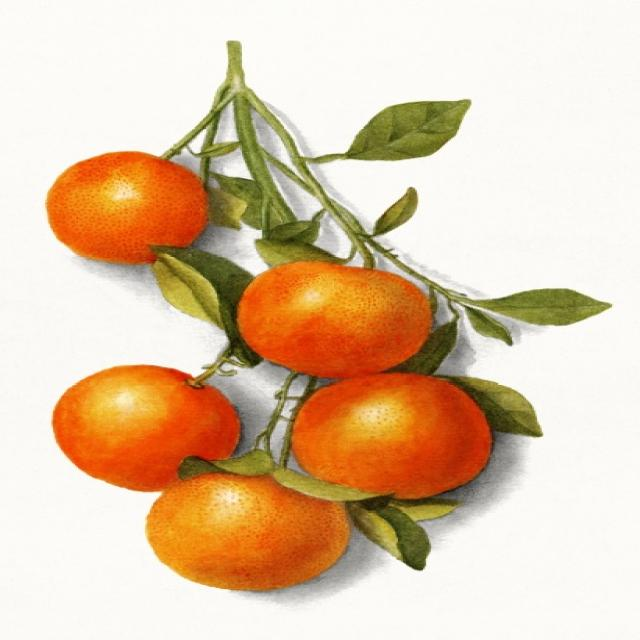orange: (126, 466, 356, 594), (288, 376, 491, 502), (242, 254, 436, 370), (55, 366, 228, 485), (43, 152, 210, 272)
